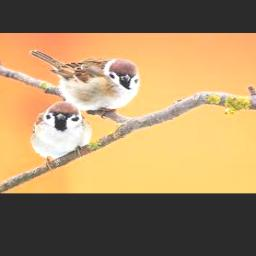Sparrow: (30, 50, 139, 119), (31, 101, 92, 172)
